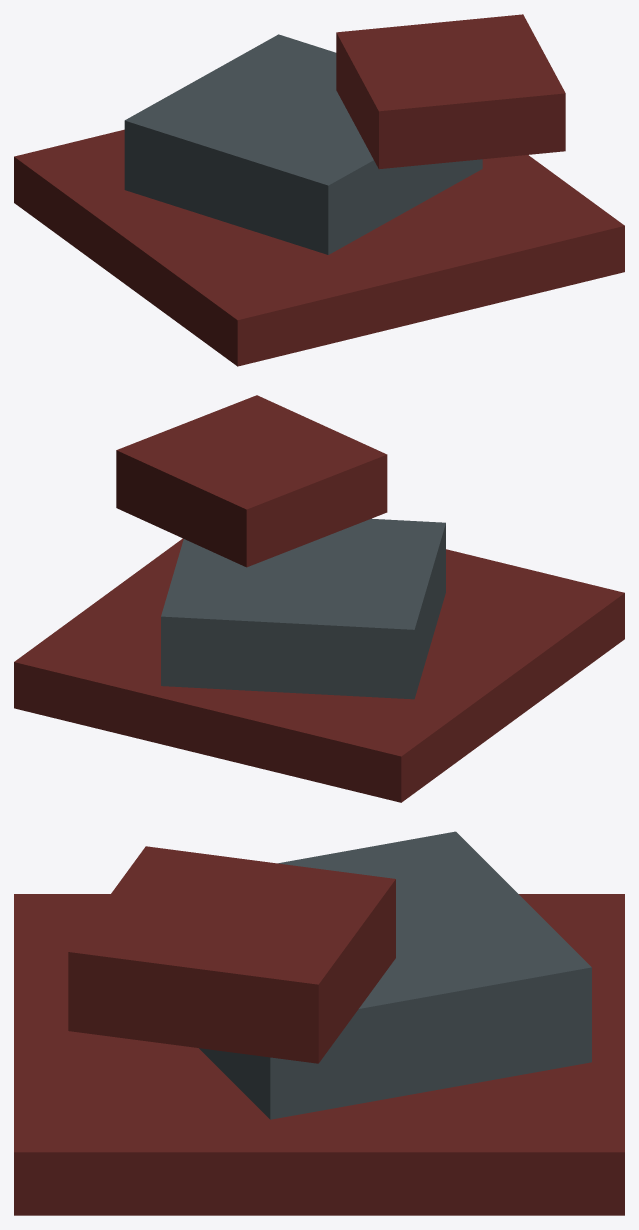
File: living_cushions.glb
The picture shows the model from 3 angles, top to bottom: view 1: azimuth 30°, elevation 25°; view 2: azimuth 150°, elevation 25°; view 3: azimuth 270°, elevation 25°; orthographic projection. The views are drawn at different scales.
Parts seen in each view (by area): view 1: sw5e_int_living_cushions; view 2: sw5e_int_living_cushions; view 3: sw5e_int_living_cushions.
Boxes of the visible parts, x1,y1,x2,y2 form: sw5e_int_living_cushions: (14,14,624,366); sw5e_int_living_cushions: (14,395,624,802); sw5e_int_living_cushions: (14,831,624,1215).
Bounding box in the file's own units: 0.7176 × 0.3 × 0.7.
